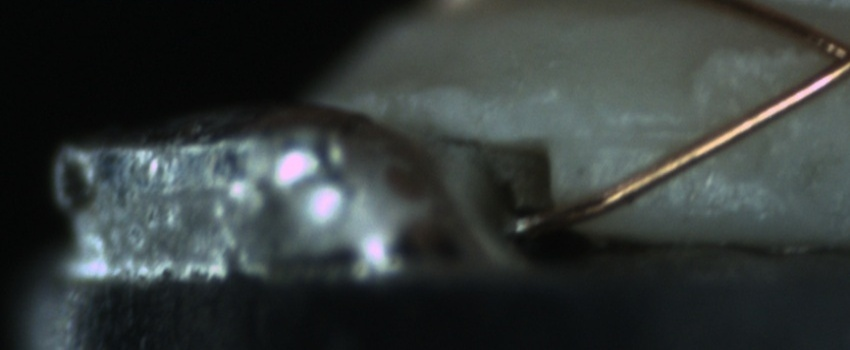CL: (801, 22, 850, 94)
DL: (600, 110, 708, 169)
